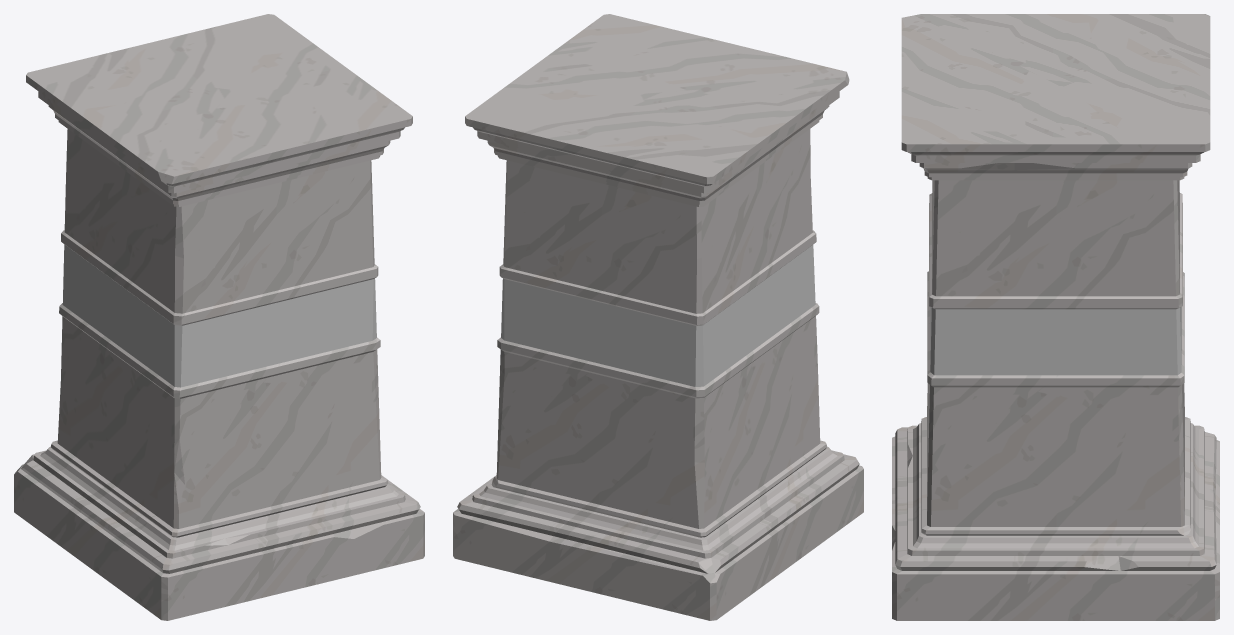
Rendered from SM_Prop_Pillar_Base_02.fbx.
The picture shows the model from 3 angles, left to right: view 1: azimuth 30°, elevation 25°; view 2: azimuth 150°, elevation 25°; view 3: azimuth 270°, elevation 25°; orthographic projection. The views are drawn at different scales.
Visible parts, largest first — view 1: SM_Prop_Pillar_Base_02; view 2: SM_Prop_Pillar_Base_02; view 3: SM_Prop_Pillar_Base_02.
Part boxes in pixels (x1,y1,x2,y2): SM_Prop_Pillar_Base_02: (14, 14, 424, 620); SM_Prop_Pillar_Base_02: (453, 14, 863, 620); SM_Prop_Pillar_Base_02: (892, 14, 1219, 620).
Size of the model in its own units: 94.37 by 150 by 94.37.
